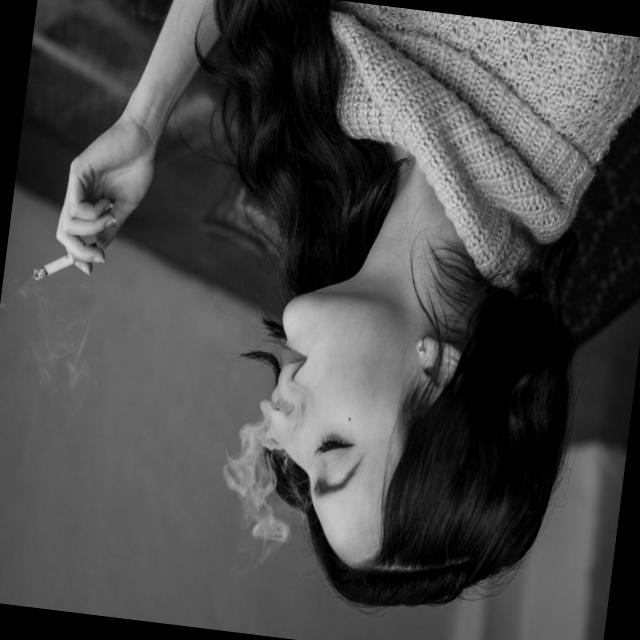cigarette: (17, 217, 108, 304)
